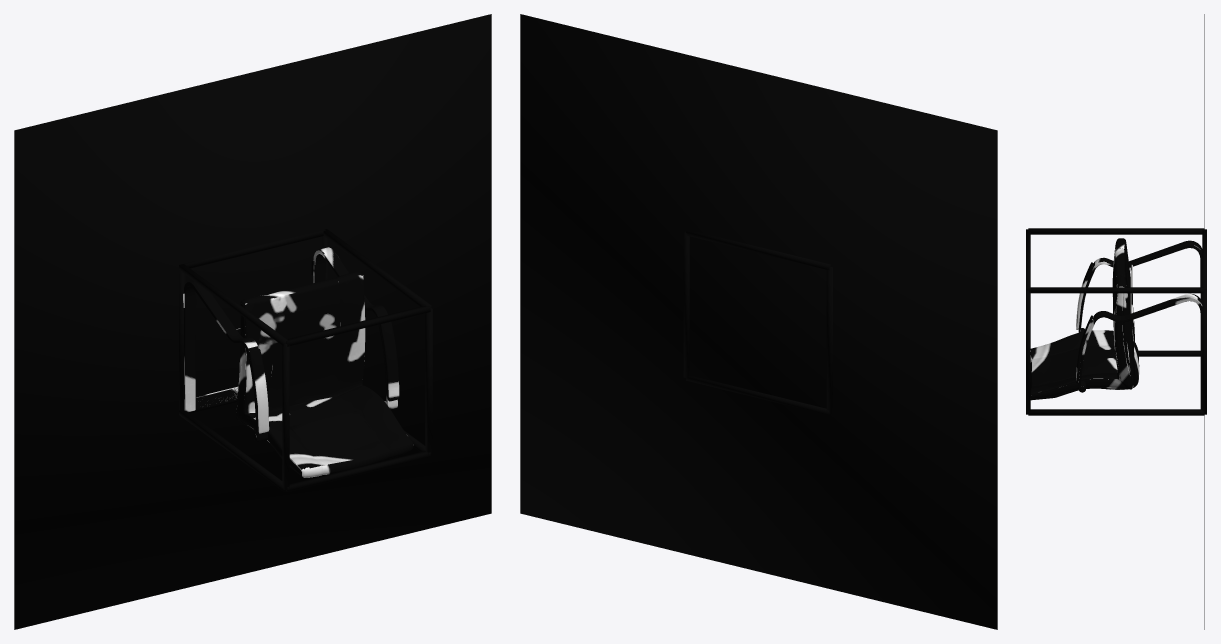
3 views of the same model, side by side, from view 1: azimuth 30°, elevation 25°; view 2: azimuth 150°, elevation 25°; view 3: azimuth 270°, elevation 25° (orthographic). The views are drawn at different scales.
Size of the model in its own units: 2 by 2 by 0.7795.
